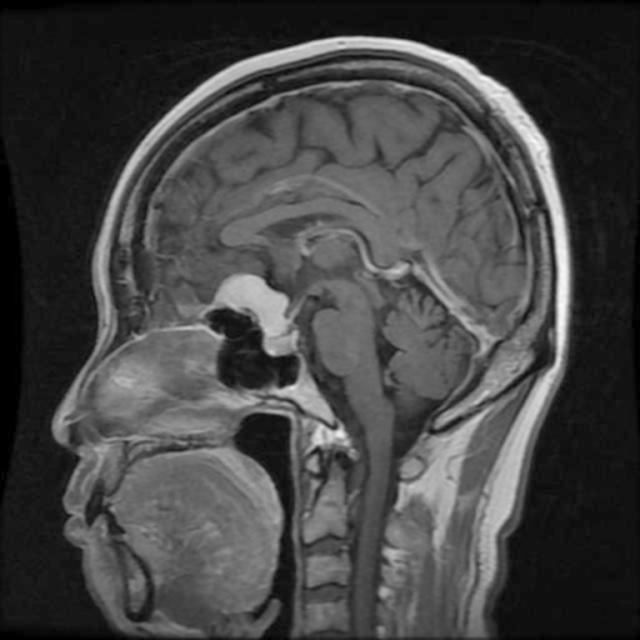meningioma tumor: (198, 261, 314, 360)
